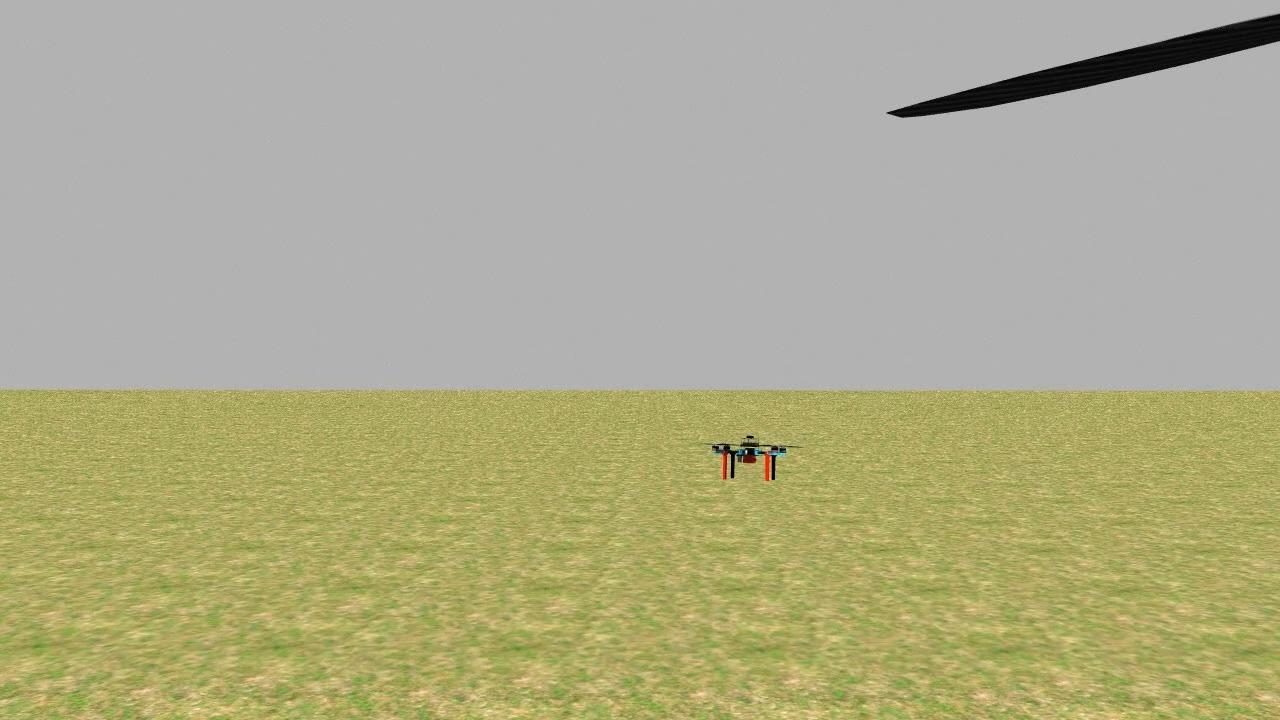UAV: (696, 417, 804, 491)
